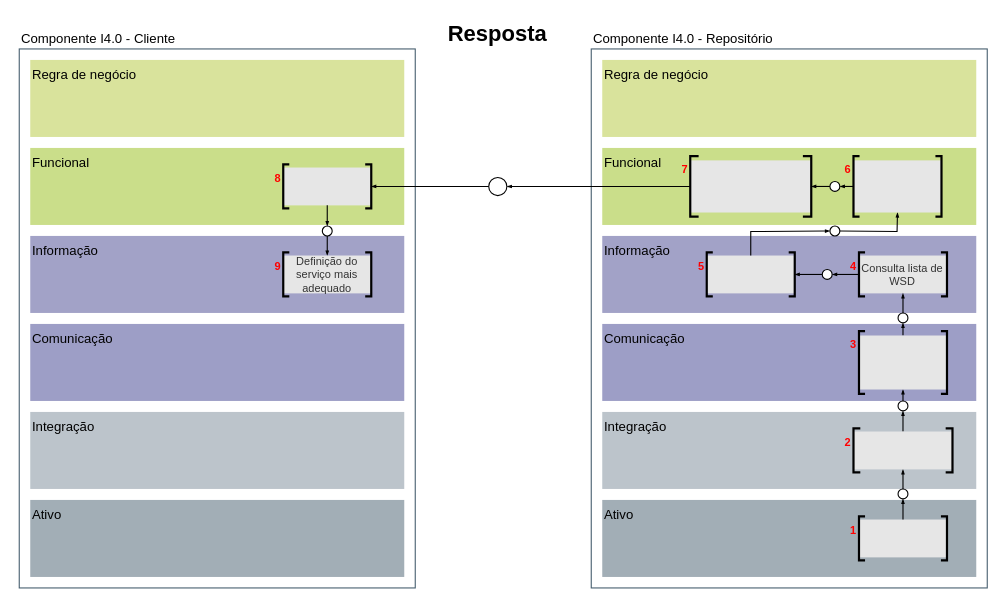
Image size: 1007x607. Some labels were removed from this diagram. Here are the shapes that lost their labels. From the top down, the centre of each, then its label:
At point 327,186: "Recepção da lista de WSD".
At point 750,186: "Envio de resposta contendo a lista de WSD via API".
At point 897,186: "Definição dos protocolos de comunicação horizontal".
At point 750,274: "Disponibilização da lista de WSD".
At point 902,362: "Definição dos protocolos de comunicação vertical".
At point 902,450: "Interface com o ativo virtual".
At point 902,538: "Disponibiliza informações do disco".
